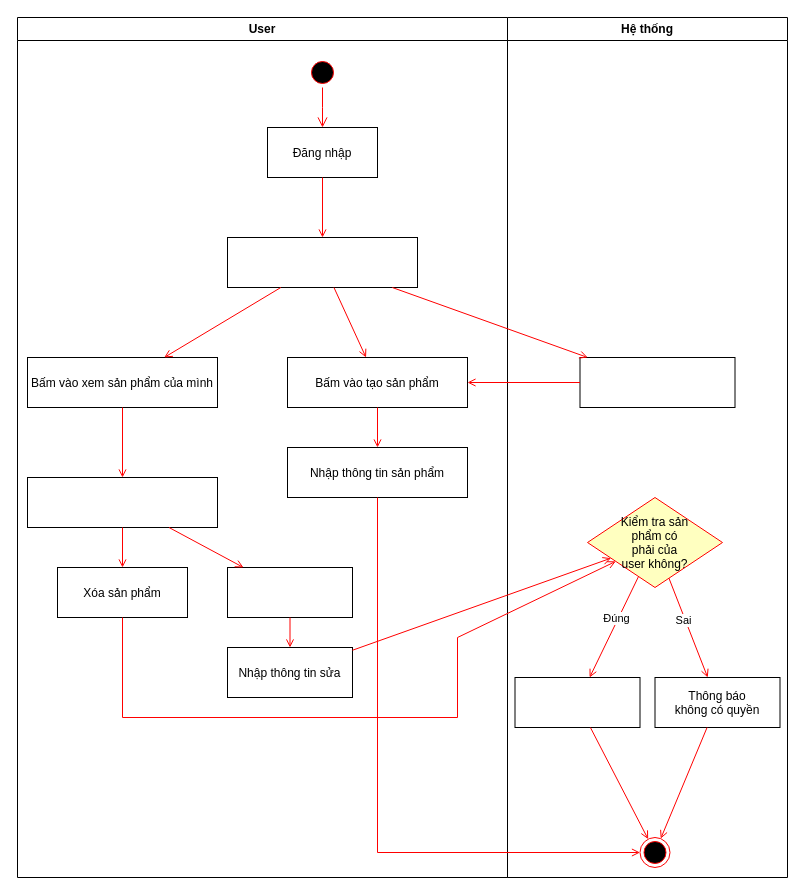
This 805x895 diagram has some shape labels left out. Each missing label, with the centre of its shape:
Bấm vào menu sản phẩm: point (122, 502)
Chọn trang sản phẩm: point (322, 262)
Sửa sản phẩm: point (289, 592)
Thông báo thành công: point (577, 702)
Trả về trang sản phẩm: point (657, 382)
